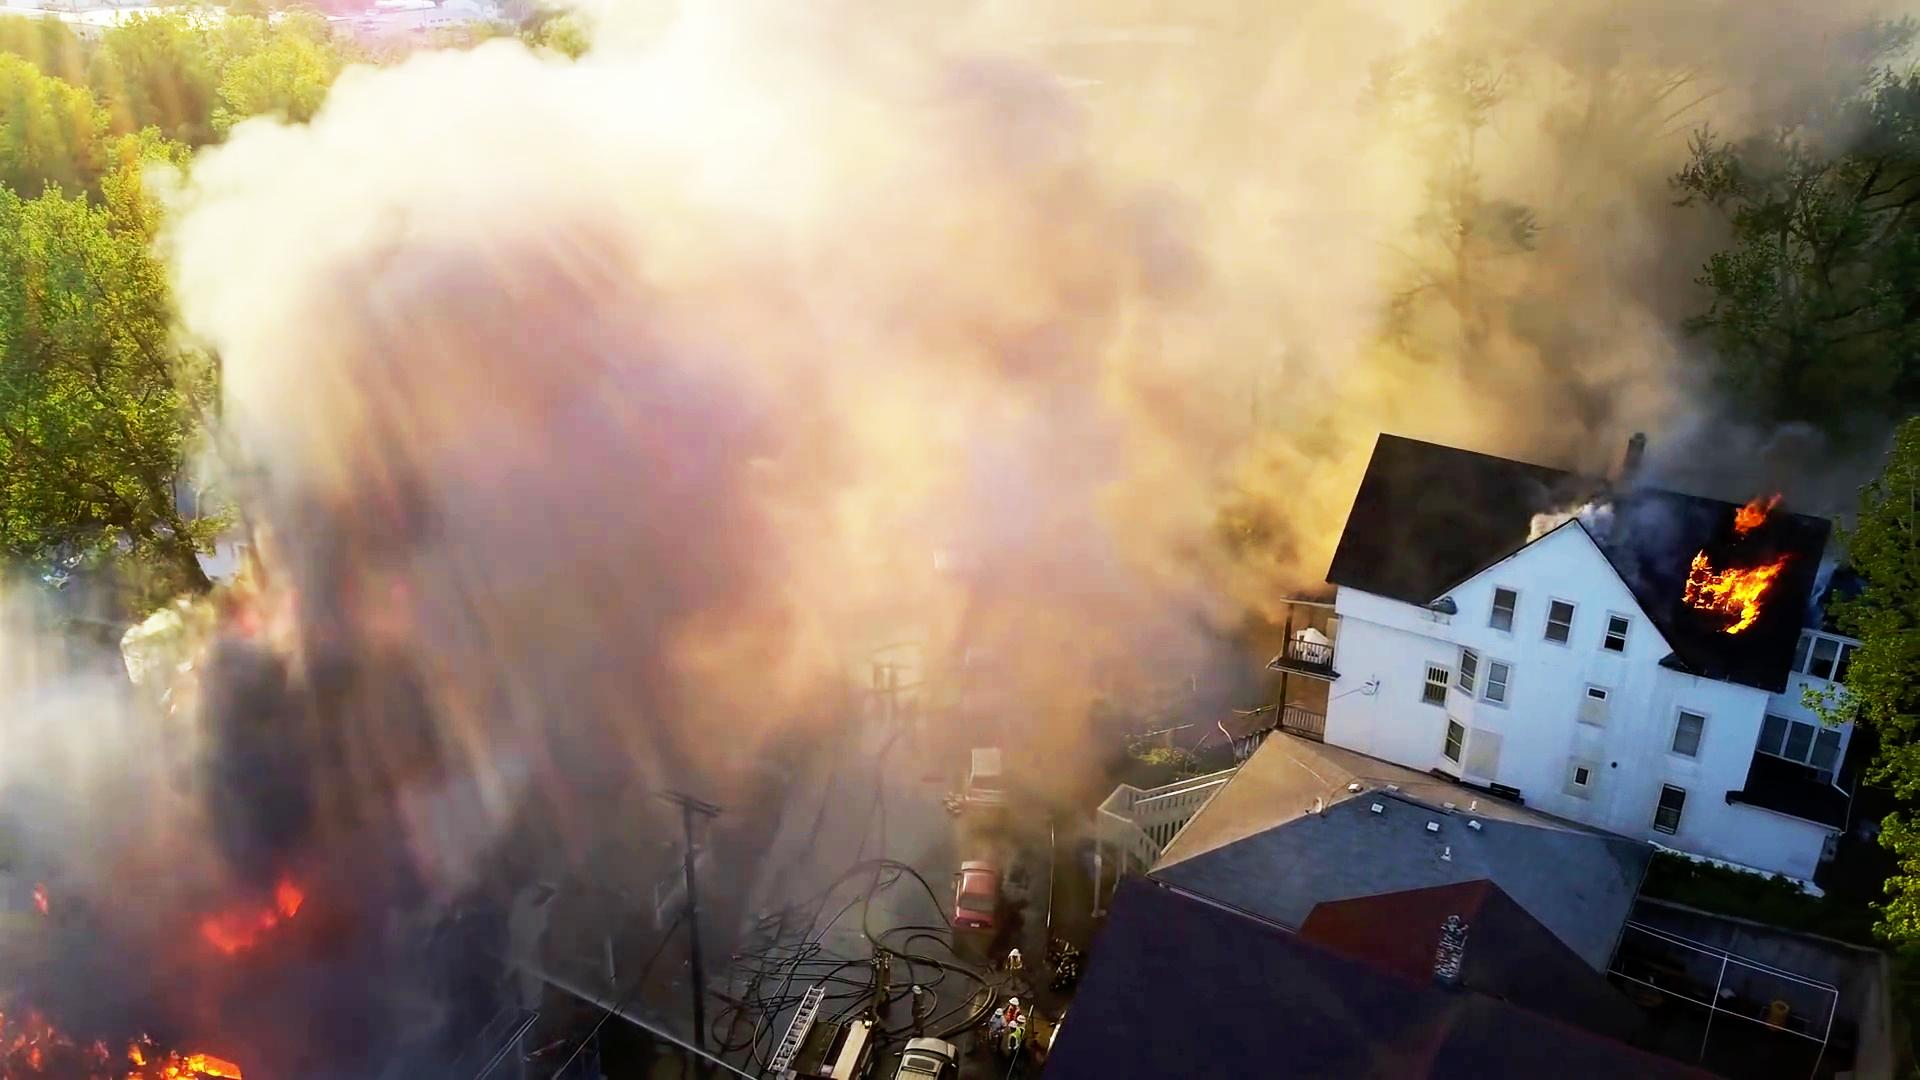fire: (1688, 484, 1780, 633)
smoke: (591, 13, 1540, 352), (406, 429, 715, 934)
